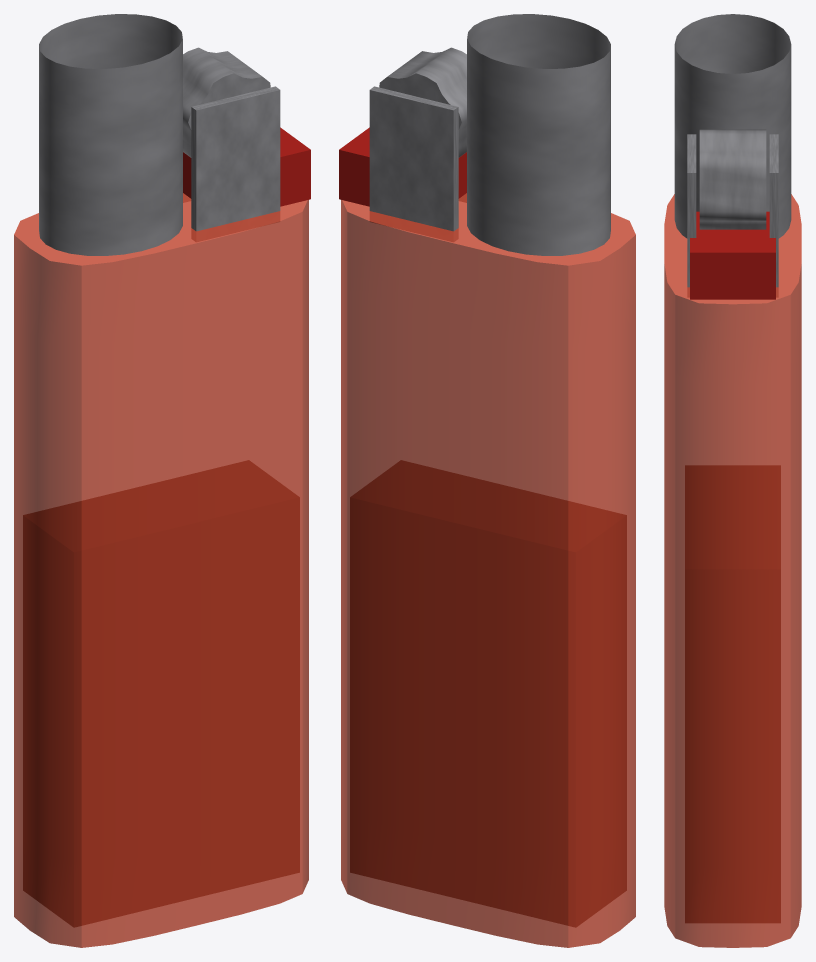
File: lighter_L2.glb
3 renders of one model, left to right at view 1: azimuth 30°, elevation 25°; view 2: azimuth 150°, elevation 25°; view 3: azimuth 270°, elevation 25°, orthographic. The views are drawn at different scales.
Parts seen in each view (by area): view 1: body, butane, hood, fork, wheel, lever; view 2: body, butane, hood, fork, wheel, lever; view 3: body, butane, hood, wheel, lever, fork (×2).
Part boxes in pixels (x1,y1,x2,y2): body: [14, 193, 308, 947]; butane: [23, 460, 299, 926]; hood: [39, 14, 182, 255]; fork: [191, 86, 280, 241]; wheel: [183, 47, 270, 157]; lever: [183, 127, 310, 206]; body: [341, 193, 635, 947]; butane: [350, 460, 626, 926]; hood: [467, 14, 610, 255]; fork: [369, 86, 458, 241]; wheel: [379, 47, 466, 157]; lever: [339, 127, 466, 206]; body: [664, 194, 801, 947]; butane: [685, 466, 780, 922]; hood: [674, 14, 791, 238]; wheel: [699, 129, 766, 229]; lever: [690, 211, 775, 299]; fork (×2): [687, 134, 778, 296].
Bounding box in the file's own units: 0.025 × 0.079 × 0.012.
Materials: 4 (1 with a texture image).
